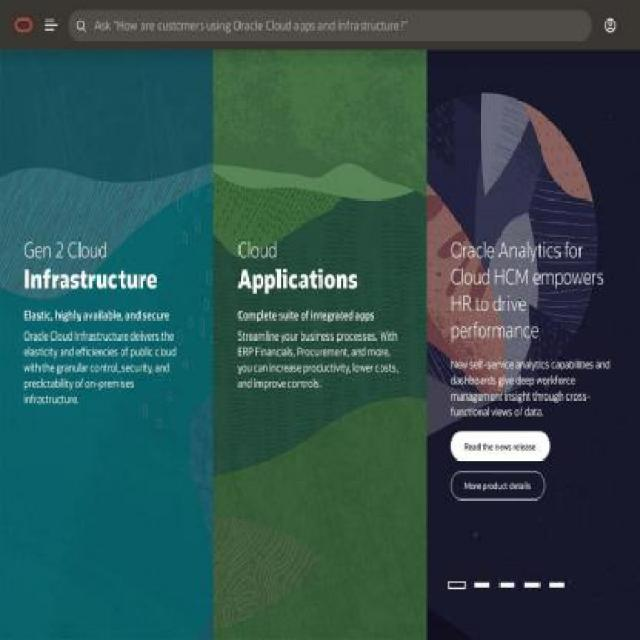button: (23, 235, 188, 420), (236, 234, 401, 403), (10, 8, 38, 46), (38, 6, 65, 43), (68, 8, 95, 41), (598, 8, 622, 41), (472, 575, 491, 596), (522, 575, 541, 596), (448, 575, 466, 596), (498, 575, 516, 596), (548, 575, 566, 596)
field: (94, 8, 592, 41)
